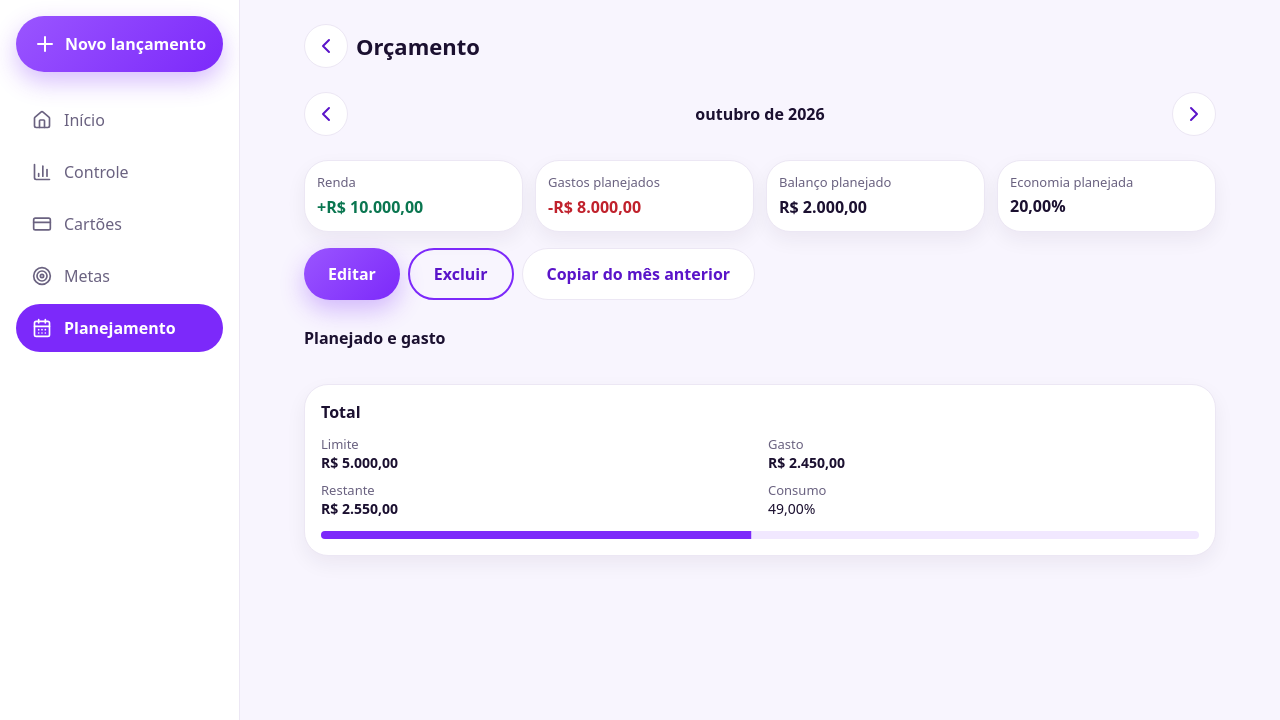
Scenario: Orcamento: seletor de mês e estado vazio (CA-7.02, CA-7.03) › abre no mês corrente da sessão e o seletor próprio troca o orçamento exibido
The image size is (1280, 720).
Expected: the text "outubro de 2026" is shown, [695, 103, 825, 125]
Expected: the text "+R$ 10.000,00" is shown, [317, 195, 423, 219]
Click the button named "mês anterior" at (326, 114), box [304, 92, 348, 136]
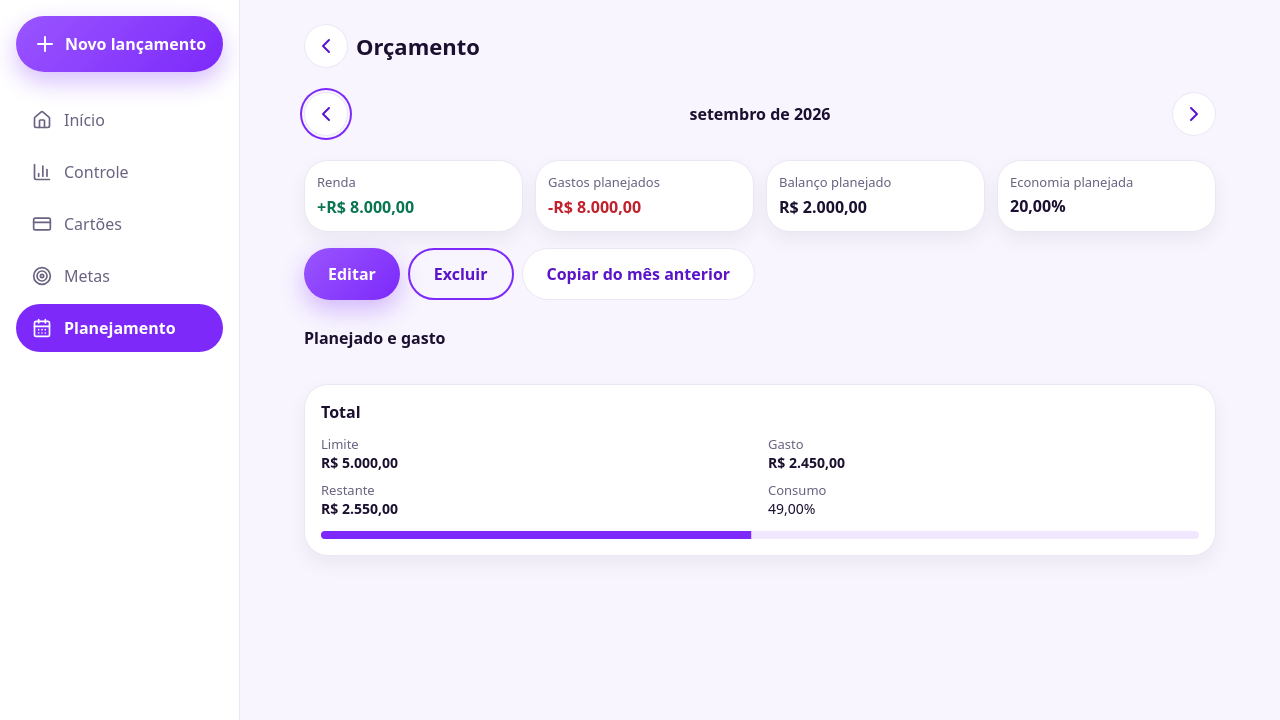
Result: the text "setembro de 2026" is shown at [690, 103, 830, 125]
Result: the text "+R$ 8.000,00" is shown at [317, 195, 414, 219]
